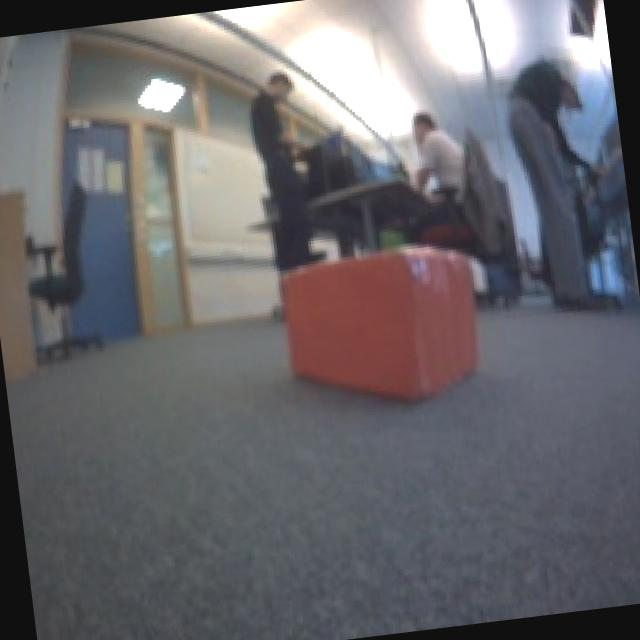target: (272, 233, 487, 416)
